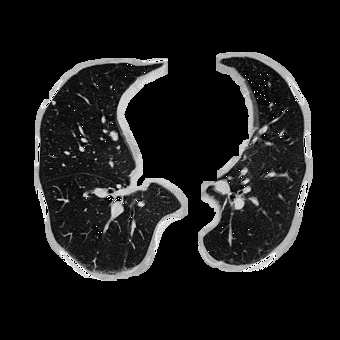PN: (52, 100, 56, 104)
